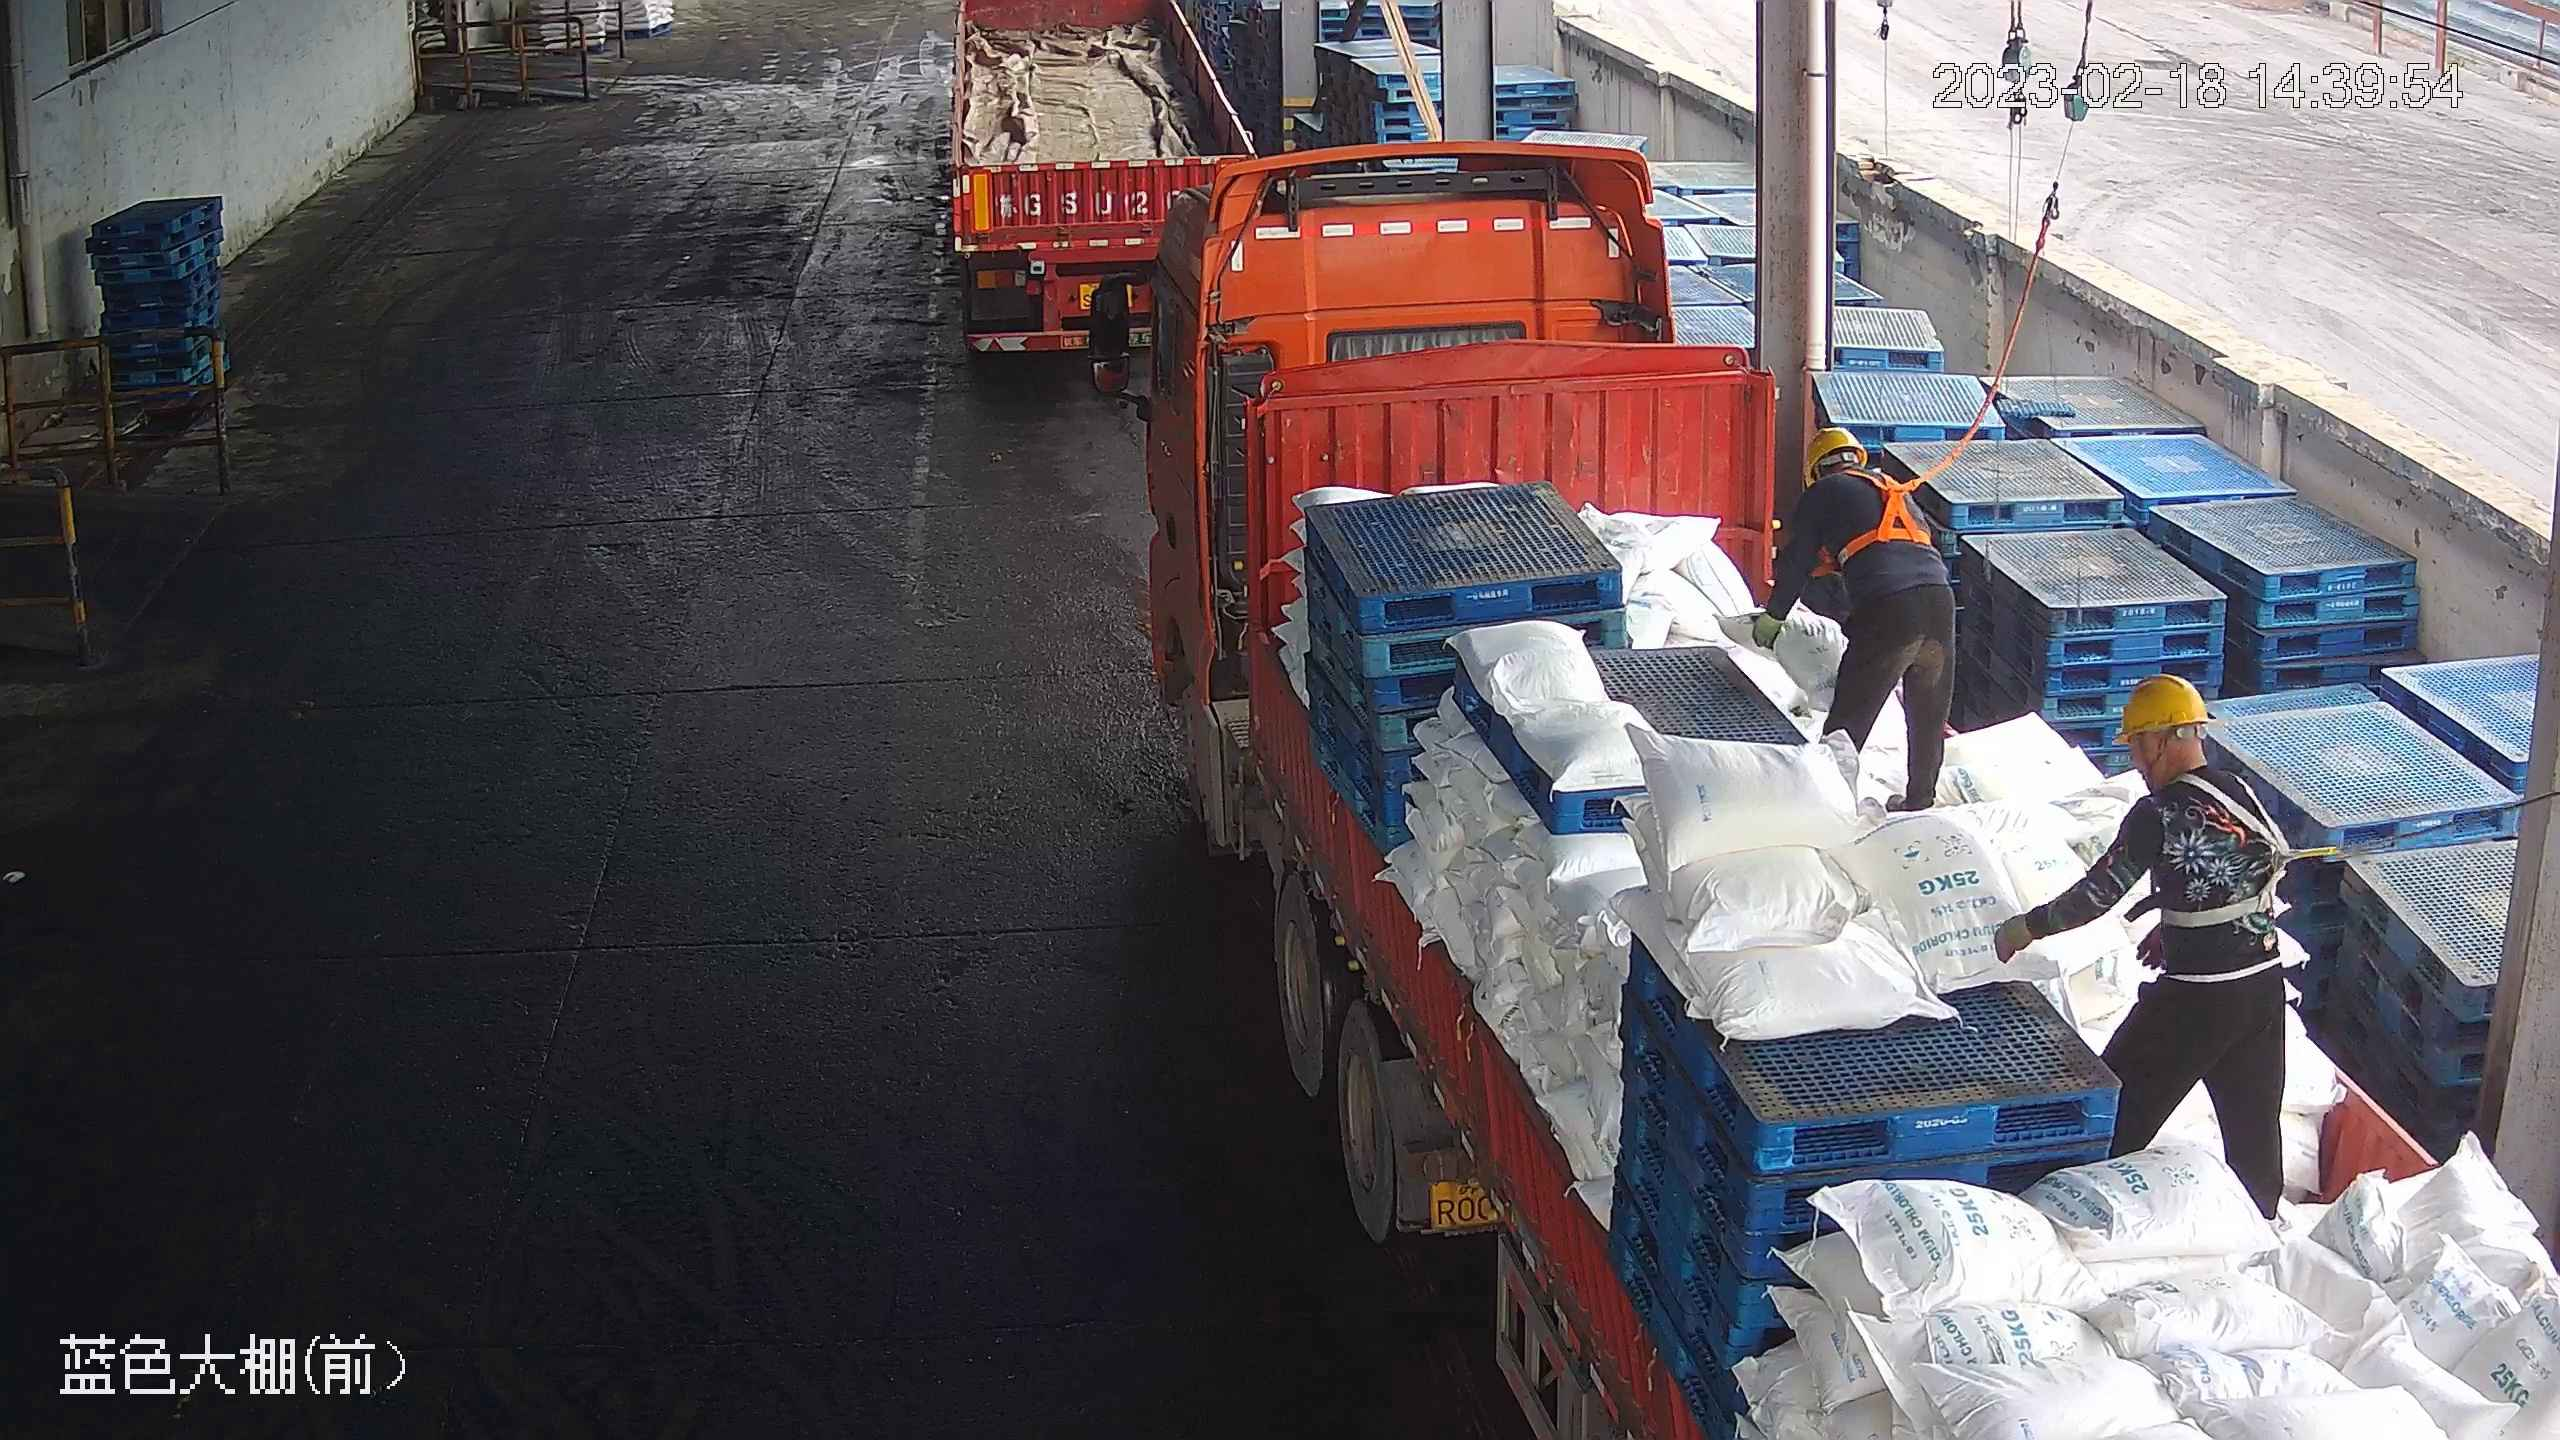belt: (2153, 779, 2304, 935), (1827, 464, 1935, 564)
head: (2101, 671, 2268, 857), (1788, 426, 1937, 544)
helmet: (2111, 671, 2214, 743), (1798, 422, 1870, 483)
people: (1988, 671, 2297, 1224), (1750, 422, 1962, 811)
truck: (1079, 153, 2551, 1437), (930, 9, 1255, 365)
